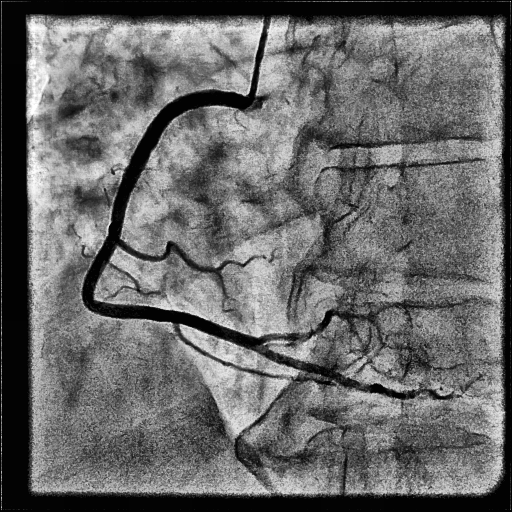pborca: (258, 310, 362, 343)
pda: (251, 340, 467, 400)
rca: (82, 90, 257, 350)
